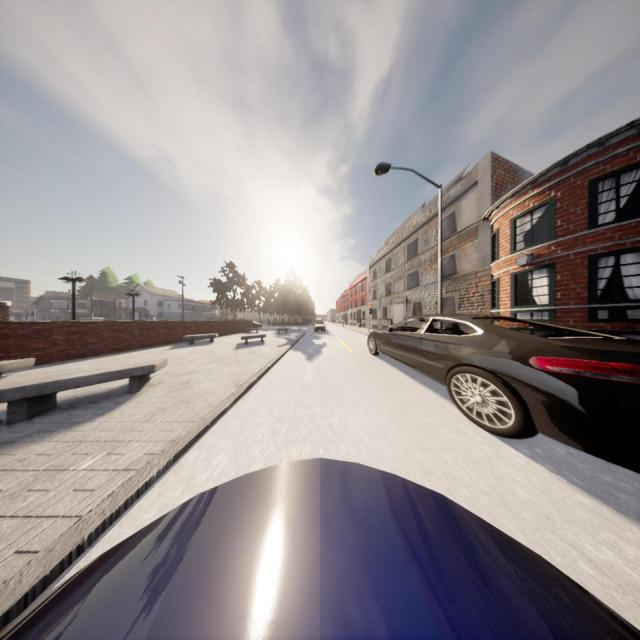Vehicle: (0, 456, 639, 640), (368, 315, 640, 471), (314, 317, 325, 332)
traffic_light: (369, 304, 372, 314)
